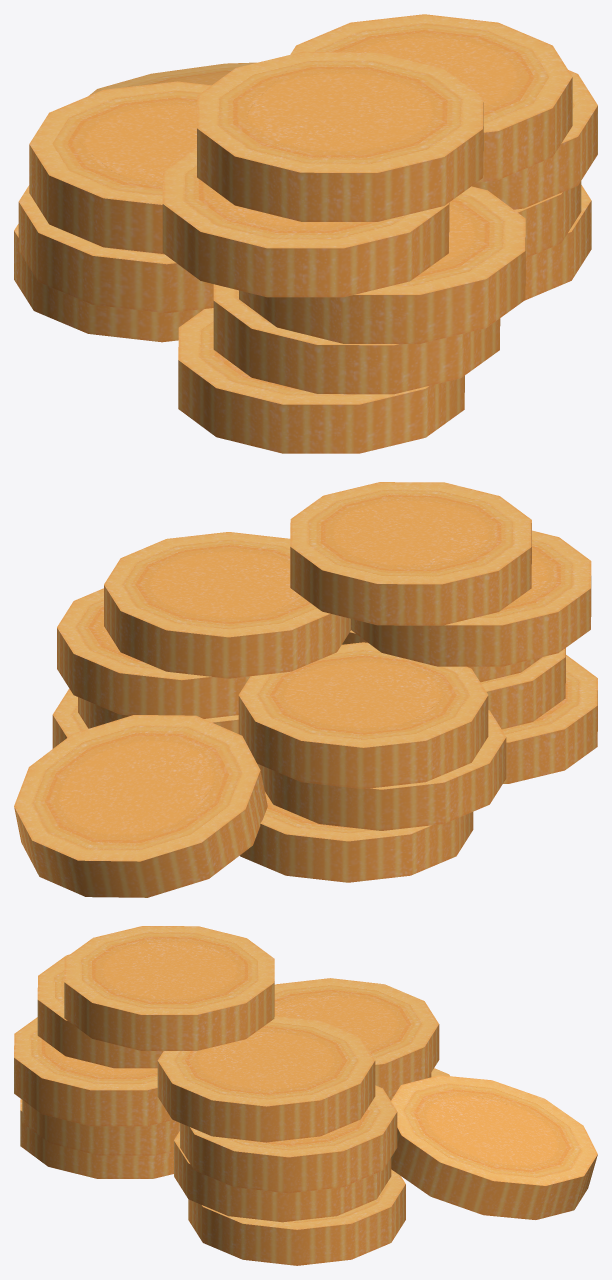
3 renders of one model, top to bottom at view 1: azimuth 30°, elevation 25°; view 2: azimuth 150°, elevation 25°; view 3: azimuth 270°, elevation 25°, orthographic. The views are drawn at different scales.
Visible parts, largest first — view 1: submesh_0; view 2: submesh_0; view 3: submesh_0.
Part boxes in pixels (x1,y1,x2,y2): submesh_0: (14,14,597,453); submesh_0: (14,482,597,897); submesh_0: (14,926,597,1265).
Size of the model in its own units: 0.1693 by 0.0775 by 0.2257.
1 material, 1 textured.
